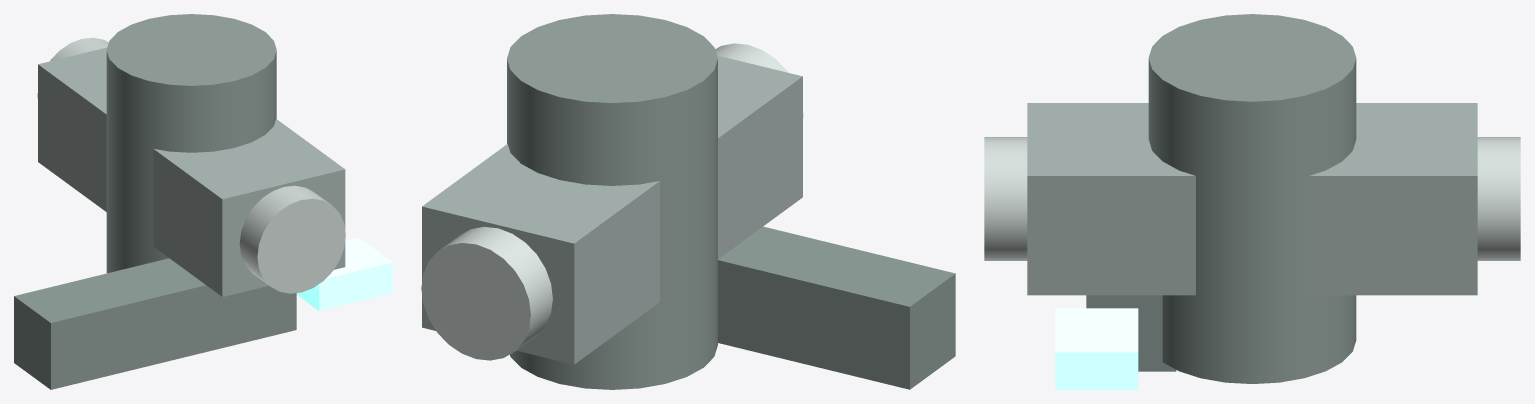
File: front_left_knuckle.glb
3 renders of one model, left to right at view 1: azimuth 30°, elevation 25°; view 2: azimuth 150°, elevation 25°; view 3: azimuth 270°, elevation 25°, orthographic. The views are drawn at different scales.
Visible parts, largest first — view 1: wheel_hub, upright, steering_arm, kingpin, angle_witness; view 2: wheel_hub, upright, steering_arm, kingpin; view 3: wheel_hub, upright, kingpin, angle_witness, steering_arm.
Part boxes in pixels (left/top/right/bottom): wheel_hub: left=106, top=14, right=276, bottom=273; upright: left=38, top=47, right=345, bottom=296; steering_arm: left=14, top=258, right=296, bottom=389; kingpin: left=37, top=37, right=345, bottom=293; angle_witness: left=296, top=237, right=392, bottom=311; wheel_hub: left=507, top=14, right=717, bottom=389; upright: left=422, top=55, right=802, bottom=364; steering_arm: left=718, top=226, right=955, bottom=389; kingpin: left=421, top=43, right=803, bottom=360; wheel_hub: left=1148, top=14, right=1356, bottom=383; upright: left=1027, top=103, right=1477, bottom=295; kingpin: left=984, top=137, right=1520, bottom=260; angle_witness: left=1055, top=308, right=1138, bottom=389; steering_arm: left=1086, top=295, right=1176, bottom=371.
Bounding box in the file's own units: 0.134 × 0.093 × 0.155.
